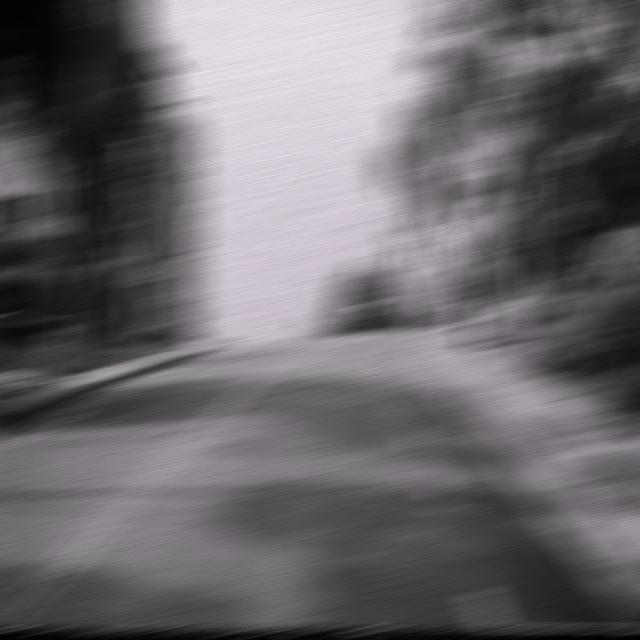stop: (456, 238, 484, 263)
